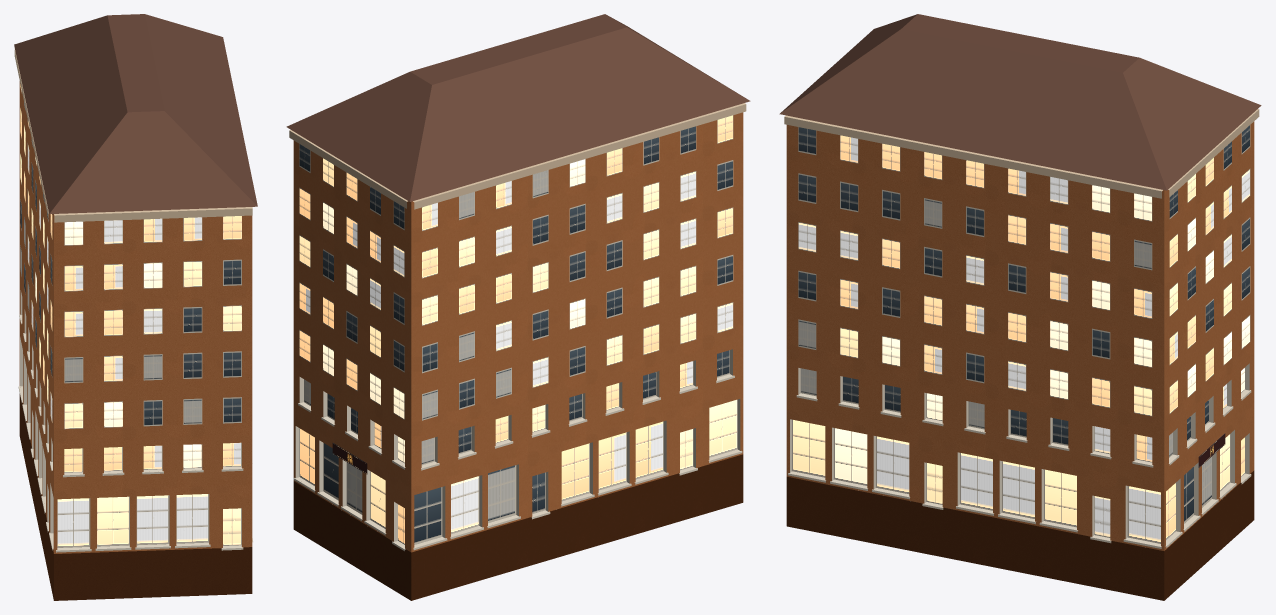
File: langC_kirroyal.glb
The picture shows the model from 3 angles, left to right: view 1: azimuth 30°, elevation 25°; view 2: azimuth 150°, elevation 25°; view 3: azimuth 270°, elevation 25°; orthographic projection. The views are drawn at different scales.
Parts seen in each view (by area): view 1: langC_kirroyal; view 2: langC_kirroyal; view 3: langC_kirroyal.
Part boxes in pixels (box(x1,y1,x2,y2)): langC_kirroyal: box(14, 14, 257, 600); langC_kirroyal: box(286, 14, 750, 600); langC_kirroyal: box(779, 14, 1261, 600).
Bounding box in the file's own units: 20.89 × 28.91 × 26.34.
Materials: 3 (3 with a texture image).
